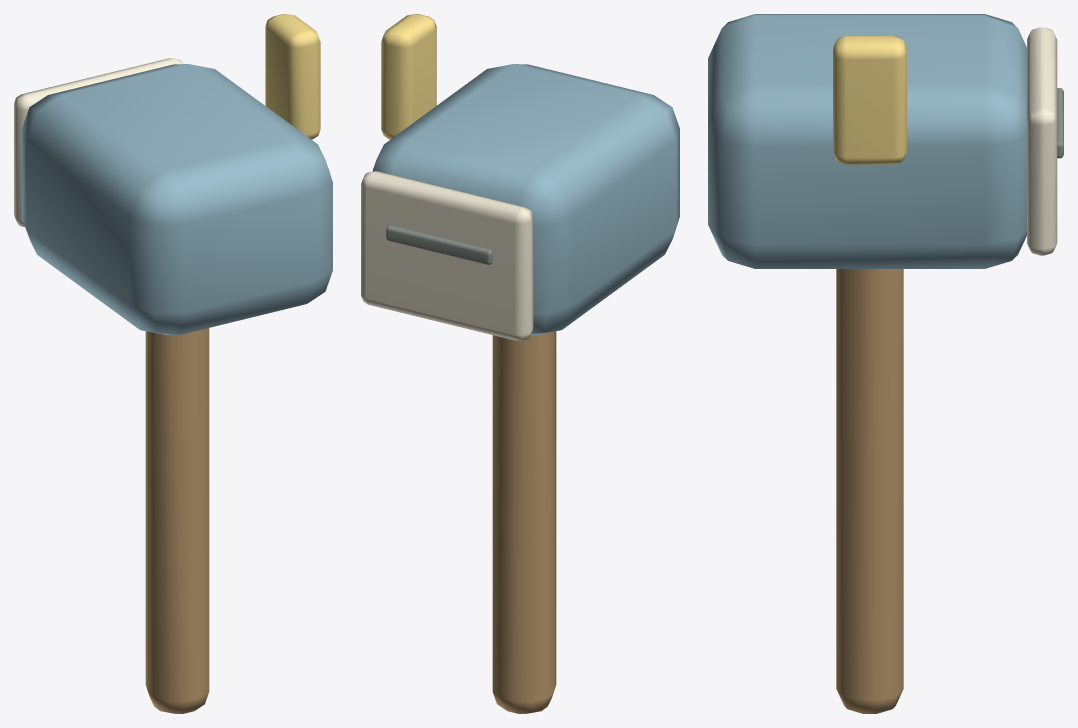
The model's file is mailbox_blue.glb.
3 views of the same model, side by side, from view 1: azimuth 30°, elevation 25°; view 2: azimuth 150°, elevation 25°; view 3: azimuth 270°, elevation 25° (orthographic). The views are drawn at different scales.
Size of the model in its own units: 0.44 by 1.2 by 0.5275.
